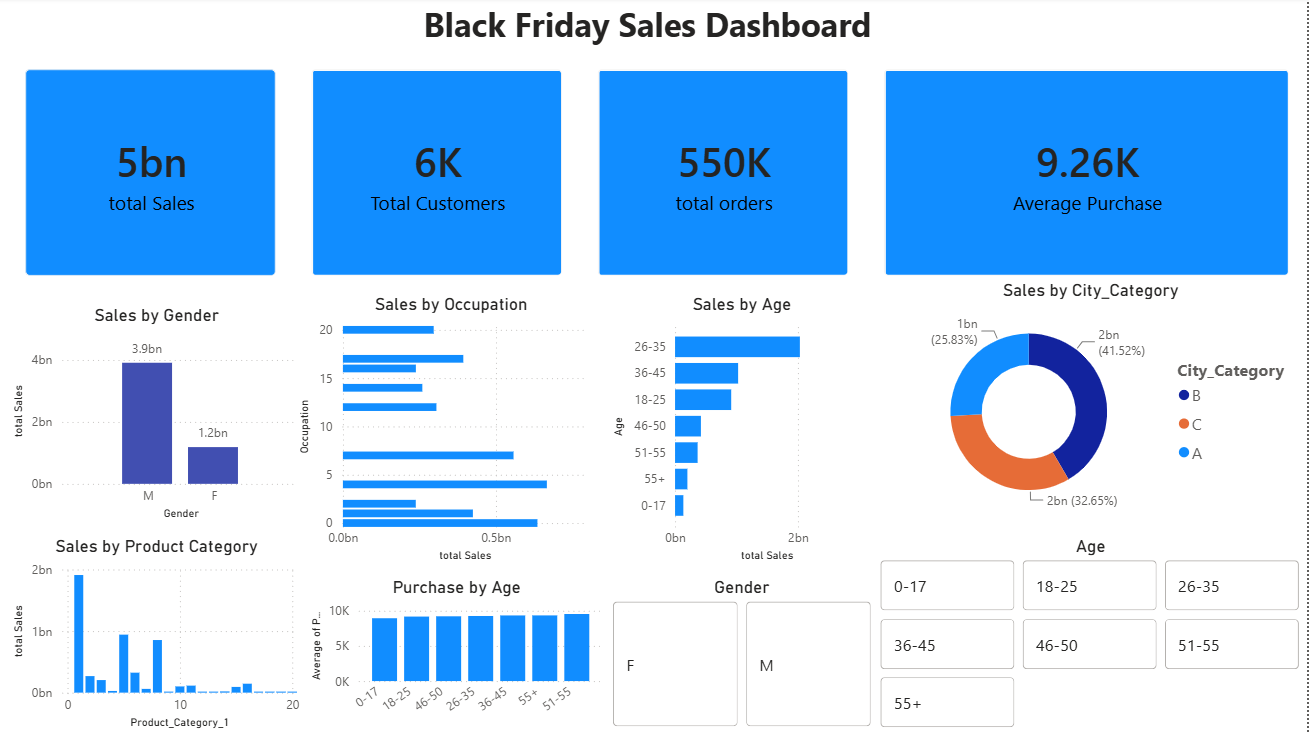

This screenshot's page, from the dashboard's own definition file:
{"tool":"powerbi","page":{"name":"Page 1","canvas":[1280,720],"ordinal":0},"visuals":[{"type":"cardVisual","fields":{"Data":["train.Average Purchase"]},"box":[849.4,53.5,430.9,236],"z":0},{"type":"cardVisual","fields":{"Data":["train.Total Customers"]},"box":[289.5,53.5,279.9,236],"z":1000},{"type":"cardVisual","fields":{"Data":["train.total orders"]},"box":[569.5,53.5,279.9,236],"z":2000},{"type":"cardVisual","fields":{"Data":["train.total Sales"]},"box":[9.6,53.5,279.9,236],"z":3000},{"type":"clusteredColumnChart","title":"Sales by Gender","fields":{"Category":["train.Gender"],"Y":["train.total Sales"]},"box":[9.6,300.5,290.9,215.4],"z":4000},{"type":"clusteredBarChart","title":"Sales by Age","fields":{"Y":["train.total Sales"],"Category":["train.Age"]},"box":[596.9,289.5,262.1,267.6],"z":5000},{"type":"donutChart","title":"Sales by City_Category","fields":{"Category":["train.City_Category"],"Y":["train.total Sales"]},"box":[859,275.8,421.3,240.1],"z":6000},{"type":"textbox","box":[0,0,1270.7,53.5],"z":7000},{"type":"clusteredBarChart","title":"Sales by Occupation","fields":{"Y":["train.total Sales"],"Category":["train.Occupation"]},"box":[289.5,289.5,307.4,267.6],"z":8000},{"type":"clusteredColumnChart","title":"Sales by Product Category","fields":{"Category":["train.Product_Category_1"],"Y":["train.total Sales"]},"box":[9.6,526.9,290.9,193.5],"z":9000},{"type":"clusteredColumnChart","title":"Purchase by Age","fields":{"Y":["Avg(train.Purchase)"],"Category":["train.Age"]},"box":[301,568,296,152],"z":10000},{"type":"advancedSlicerVisual","fields":{"Values":["train.Gender"]},"box":[597,568,262,152],"z":10001},{"type":"advancedSlicerVisual","fields":{"Values":["train.Age"]},"box":[859,526.9,421.3,193.5],"z":10002}]}

Visuals, with their boxes in screenshot pixels (x1, y1, x2, y2), scaled from the page's 1280x720 canvas onto the 1309x733 screenshot:
cardVisual - train.Average Purchase: region(869, 54, 1308, 295)
cardVisual - train.Total Customers: region(296, 54, 582, 295)
cardVisual - train.total orders: region(582, 54, 869, 295)
cardVisual - train.total Sales: region(10, 54, 296, 295)
"Sales by Gender" clusteredColumnChart: region(10, 306, 307, 525)
"Sales by Age" clusteredBarChart: region(610, 295, 878, 567)
"Sales by City_Category" donutChart: region(878, 281, 1308, 525)
textbox: region(0, 0, 1299, 54)
"Sales by Occupation" clusteredBarChart: region(296, 295, 610, 567)
"Sales by Product Category" clusteredColumnChart: region(10, 536, 307, 732)
"Purchase by Age" clusteredColumnChart: region(308, 578, 611, 732)
advancedSlicerVisual - train.Gender: region(611, 578, 878, 732)
advancedSlicerVisual - train.Age: region(878, 536, 1308, 732)
